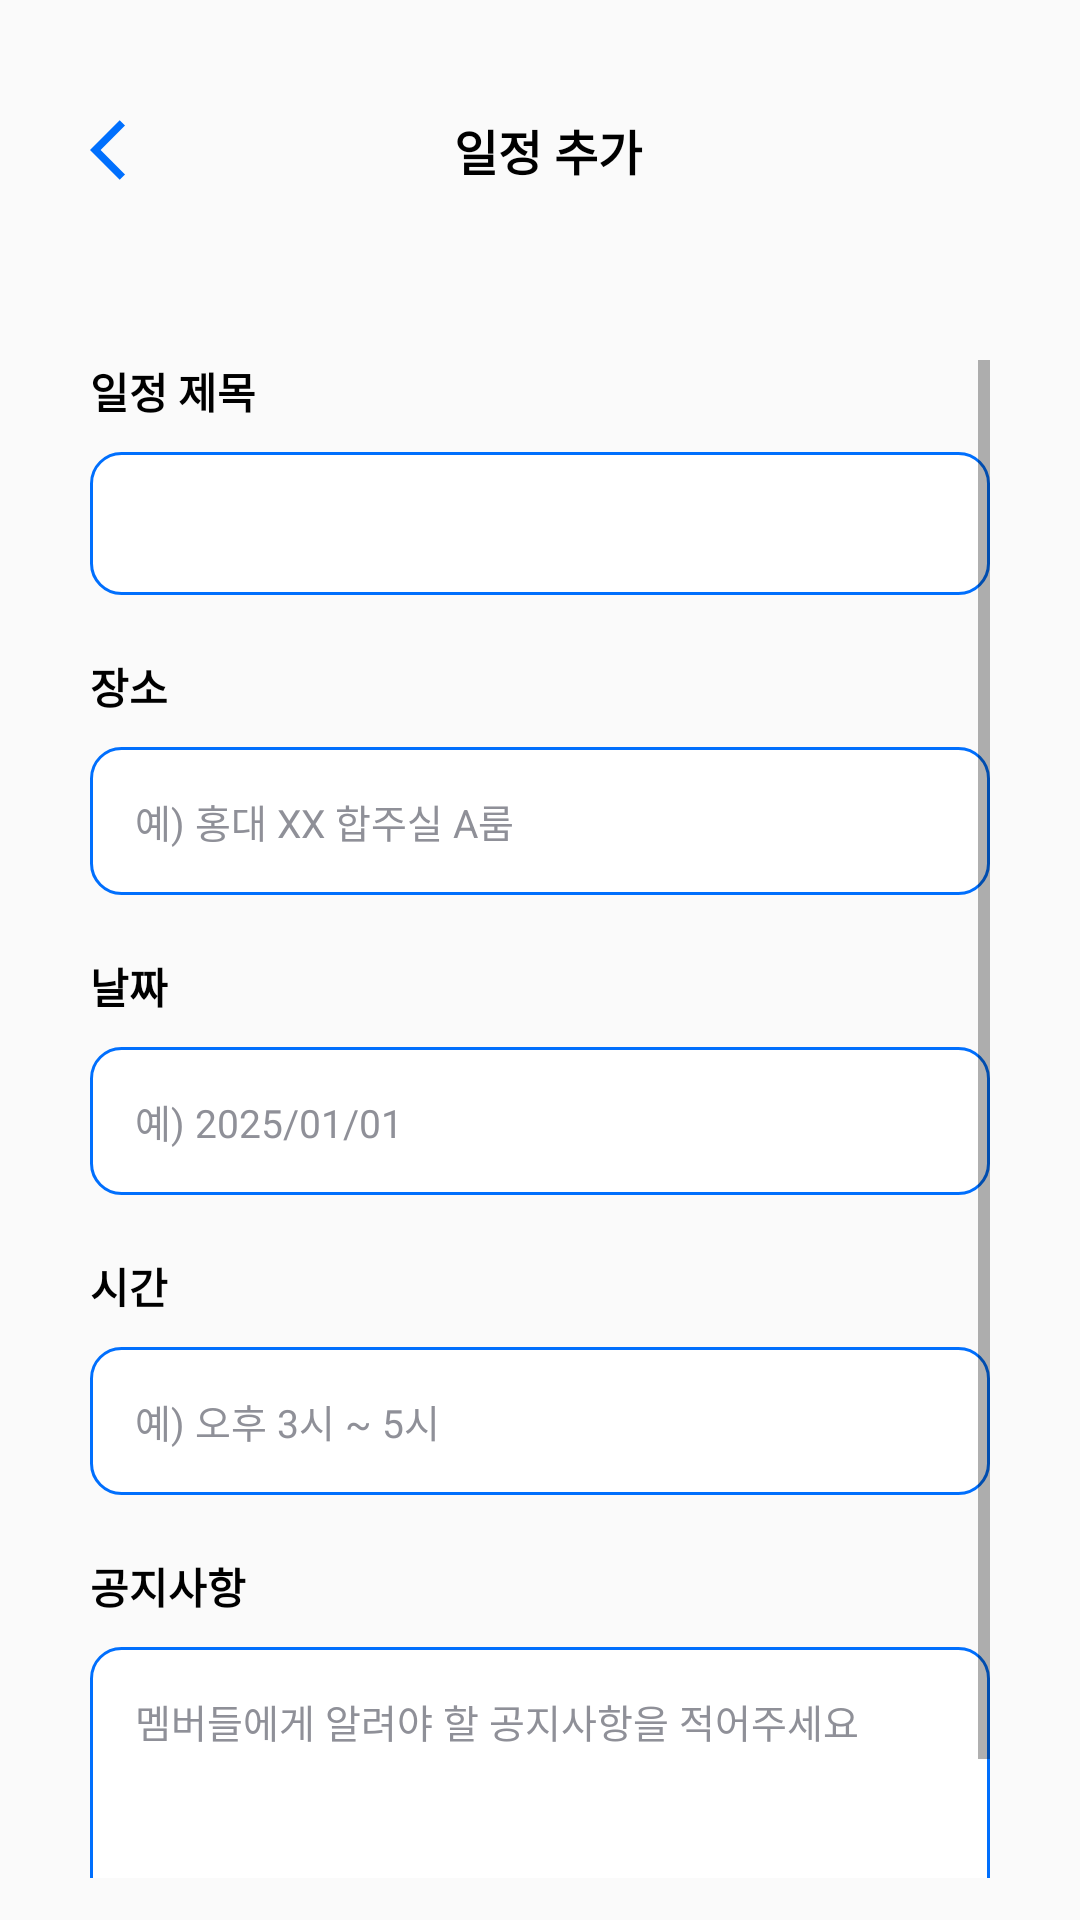

Screen size 1080 × 1920. Icon name, then its center in pixels as point (x, y):
arrow back: point (107, 150)
